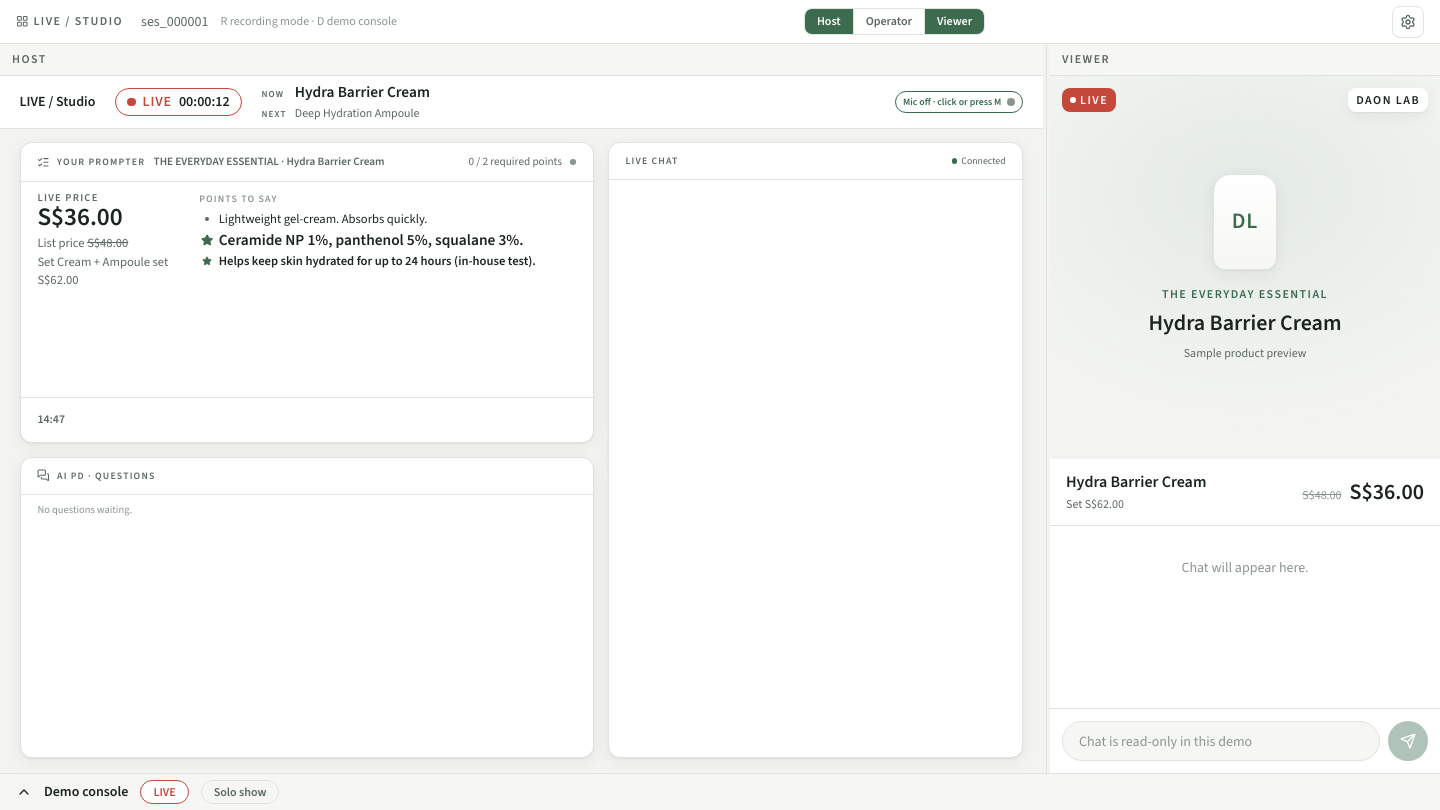
Test case: screens › Demo console: Write with AI fills the host script; nothing is injected until a line's Inject
Click the button "Demo console LIVE Solo show" at point(86, 792), box [0,774,1439,809]
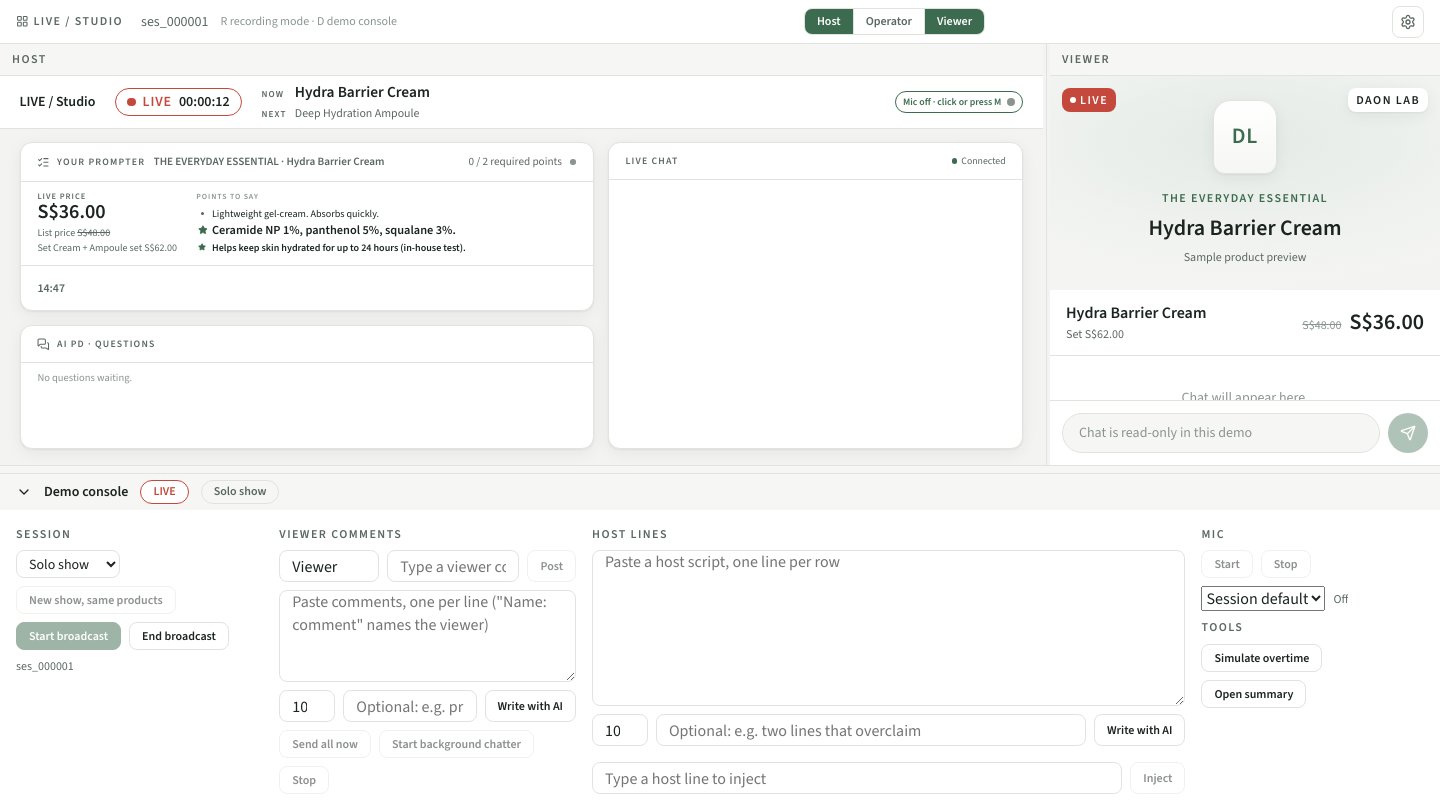
Type "one price line" into the field with test id "console-ai-instruction-host" at point(871, 730), box [656,714,1086,746]
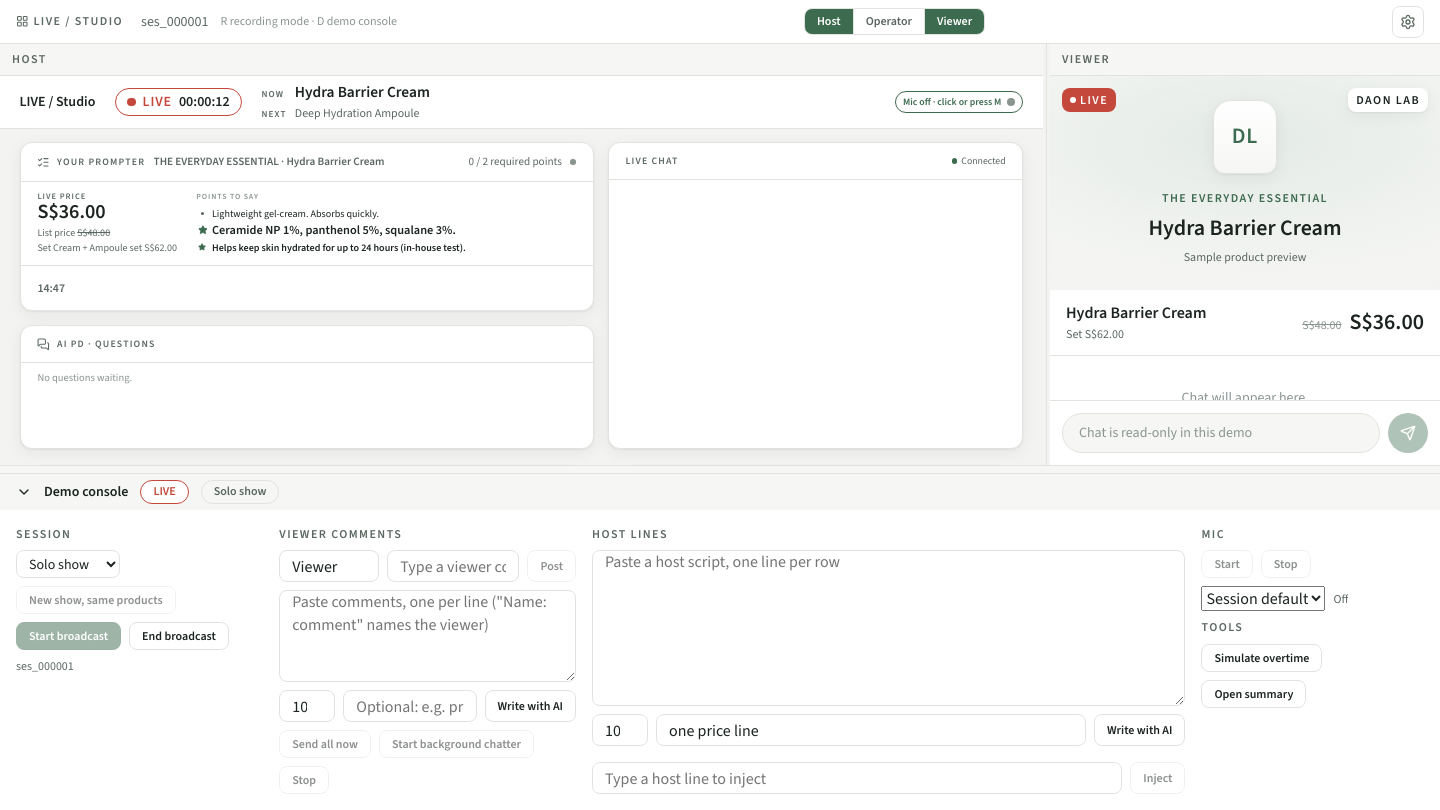
Click the button with test id "console-ai-host" at point(1140, 730), box [1094,714,1186,746]
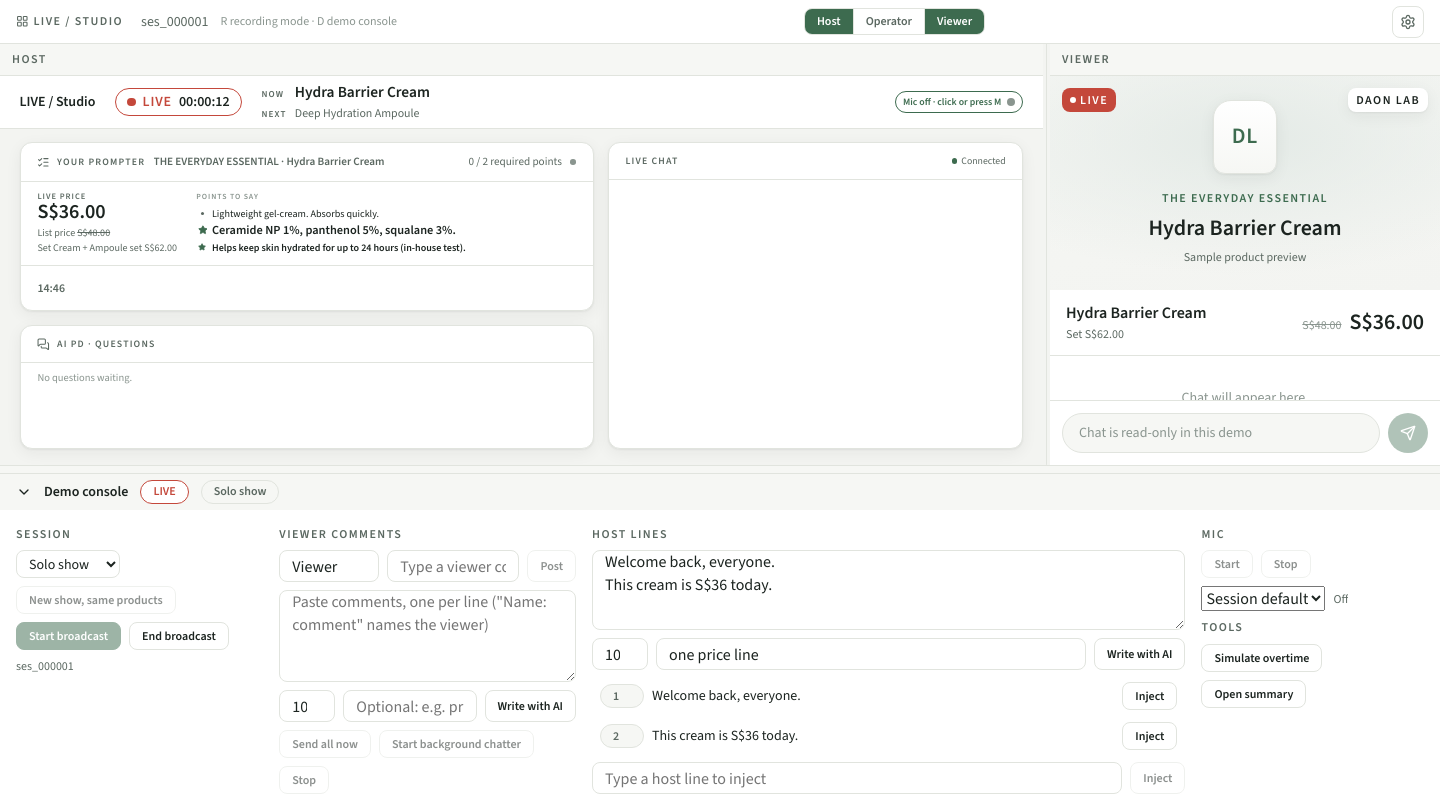
Result: the button with test id "console-line-2" is shown at [1122,722,1177,750]
